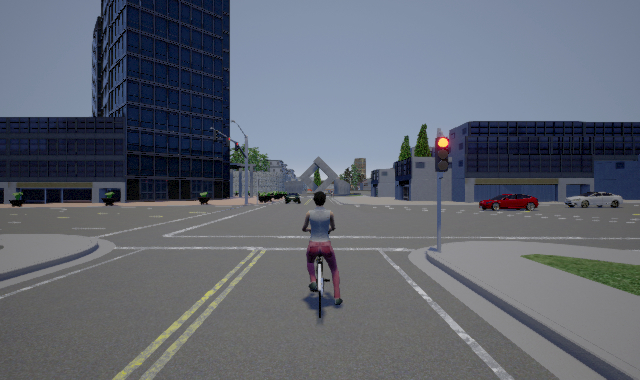bike: (303, 190, 343, 318)
traffic_light: (435, 136, 449, 172), (214, 130, 219, 141), (226, 137, 231, 147), (235, 142, 239, 151)
vehicle: (479, 194, 539, 211), (564, 192, 623, 208), (283, 192, 300, 204)
